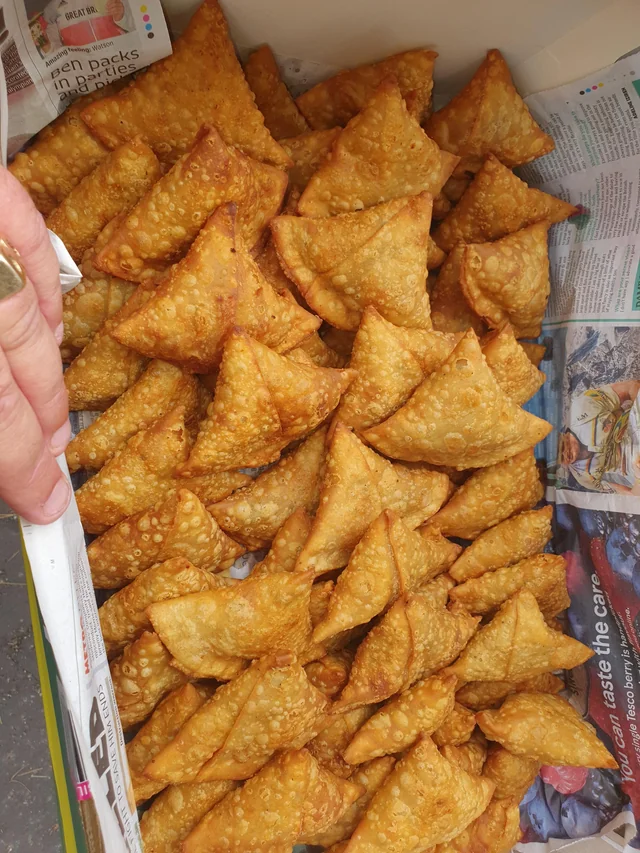samosa: (364, 328, 555, 450), (104, 7, 275, 137), (171, 749, 360, 852), (279, 199, 449, 312), (148, 569, 319, 675), (146, 194, 278, 321), (191, 321, 348, 424), (359, 736, 496, 852), (329, 603, 465, 718), (308, 421, 401, 571), (83, 488, 216, 590), (455, 46, 565, 157), (486, 694, 632, 775), (460, 595, 596, 677), (319, 513, 396, 649), (329, 75, 423, 181), (313, 37, 449, 95), (348, 300, 423, 384), (84, 128, 164, 200), (504, 500, 567, 546), (490, 439, 545, 490)
